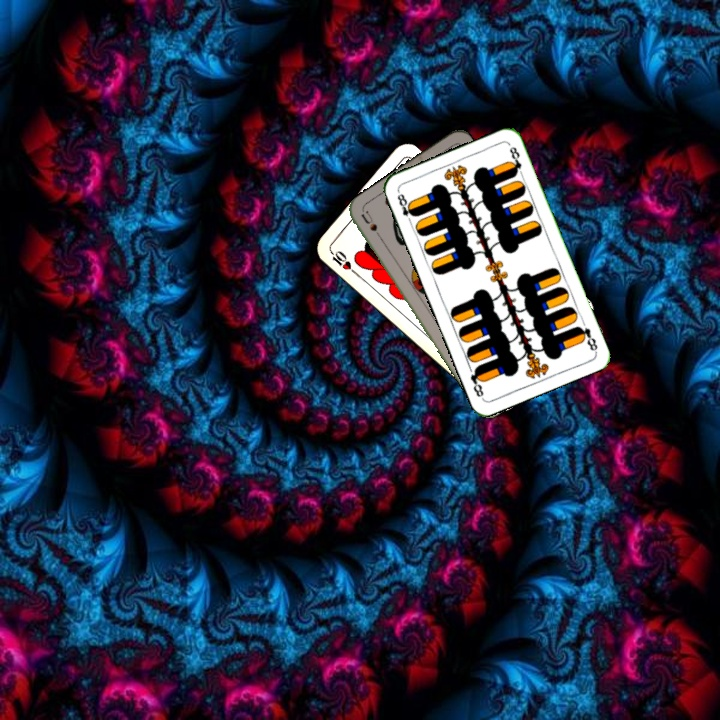E8: (393, 187, 418, 226), (573, 322, 600, 354)
H10: (325, 246, 359, 276)
SU: (357, 208, 387, 245)
